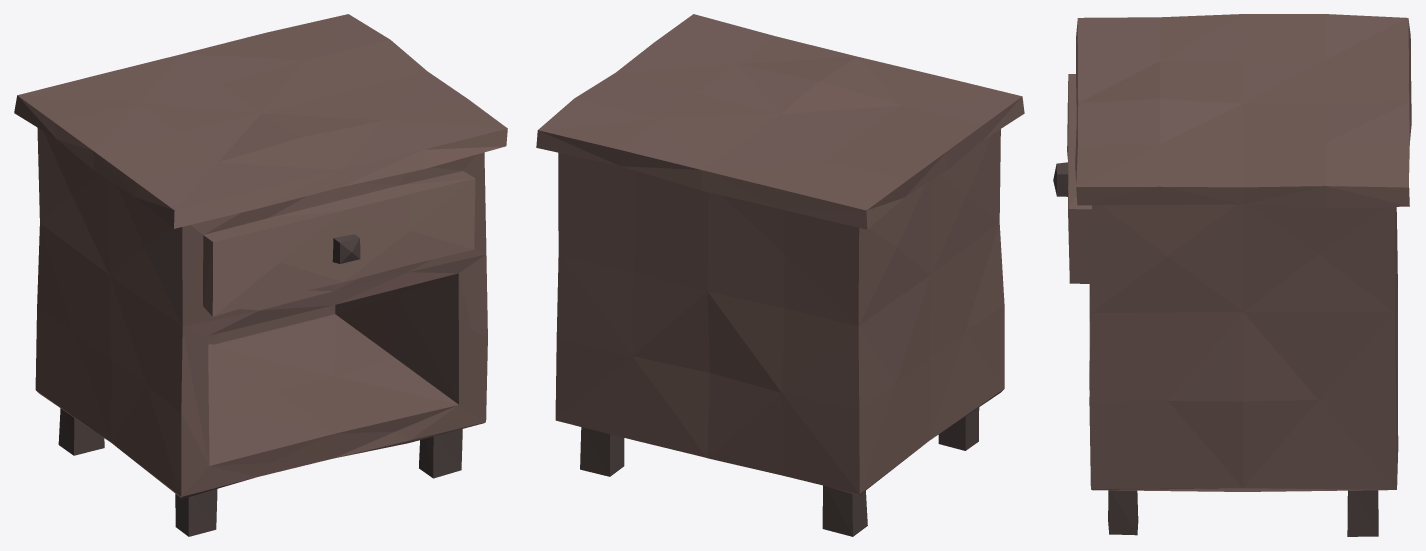
Rendered from bedroom_table.fbx.
3 renders of one model, left to right at view 1: azimuth 30°, elevation 25°; view 2: azimuth 150°, elevation 25°; view 3: azimuth 270°, elevation 25°, orthographic. The views are drawn at different scales.
Visible parts, largest first — view 1: bedroom_table; view 2: bedroom_table; view 3: bedroom_table.
Part boxes in pixels (x1=…): bedroom_table: x1=14, y1=14, x2=507, y2=536; bedroom_table: x1=536, y1=14, x2=1024, y2=536; bedroom_table: x1=1053, y1=14, x2=1411, y2=536.
Size of the model in its own units: 53.48 by 53.16 by 46.99.
